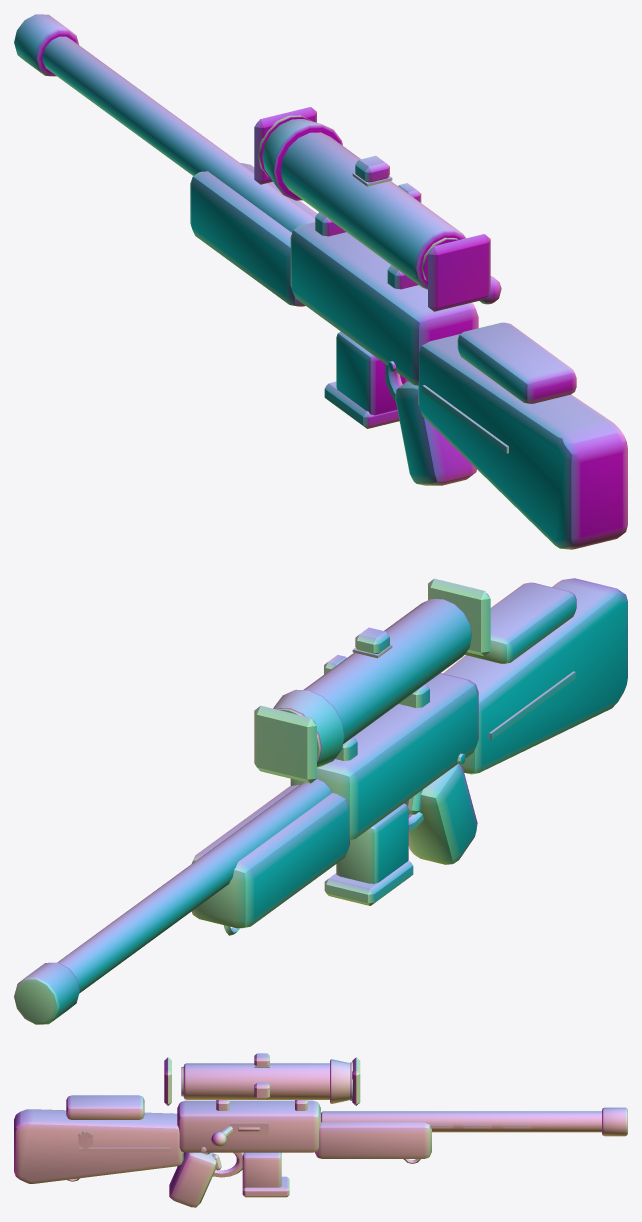
The model's file is wpn_sniper.glb.
3 views of the same model, one above another, from view 1: azimuth 30°, elevation 25°; view 2: azimuth 150°, elevation 25°; view 3: azimuth 270°, elevation 25° (orthographic). The views are drawn at different scales.
Visible parts, largest first — view 1: wpn_sniper_mesh; view 2: wpn_sniper_mesh; view 3: wpn_sniper_mesh.
Part boxes in pixels (x1=…): wpn_sniper_mesh: x1=14, y1=14, x2=627, y2=549; wpn_sniper_mesh: x1=14, y1=578, x2=627, y2=1024; wpn_sniper_mesh: x1=14, y1=1053, x2=627, y2=1207.
Bounding box in the file's own units: 0.0591 × 0.125 × 0.47.
